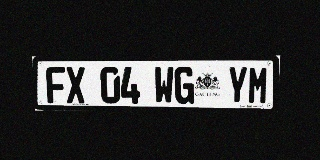0: (100, 67, 120, 104)
4: (120, 67, 140, 104)
F: (46, 67, 66, 103)
G: (174, 66, 194, 104)
M: (247, 66, 269, 104)
W: (154, 66, 174, 104)
X: (65, 67, 86, 103)
Y: (227, 66, 248, 104)
